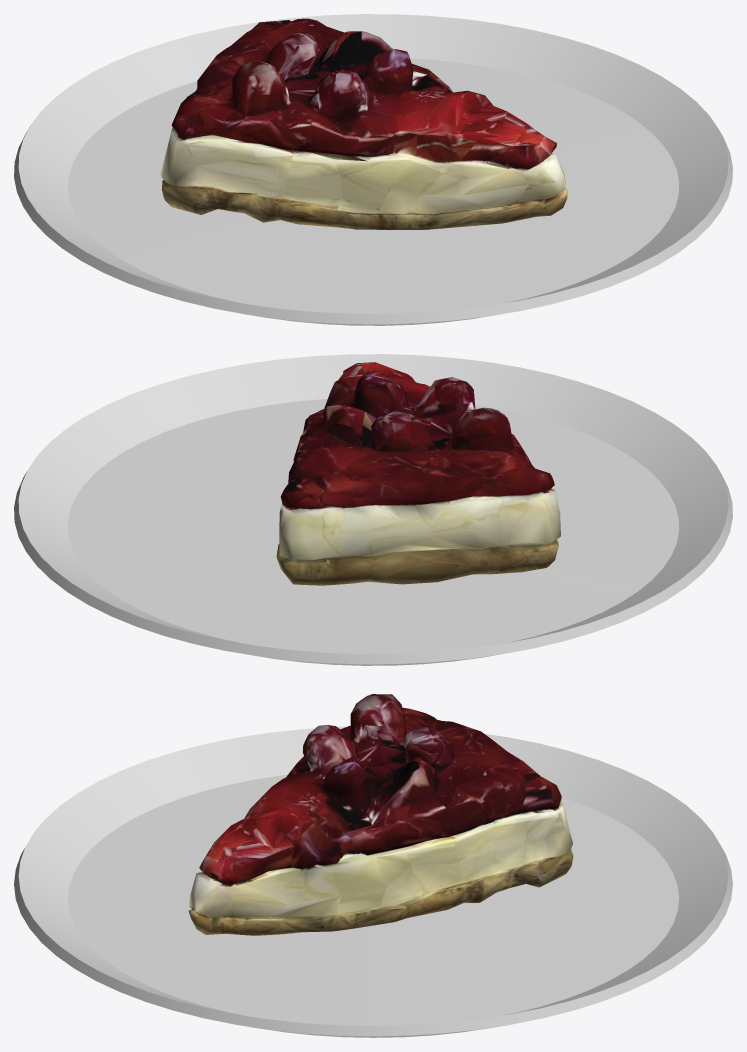
File: LetMeEatCake_04.glb
3 renders of one model, top to bottom at view 1: azimuth 30°, elevation 25°; view 2: azimuth 150°, elevation 25°; view 3: azimuth 270°, elevation 25°, orthographic.
Visible parts, largest first — view 1: Cube.003, Meshy_AI_Cherry_Cheesecake_Sli_0429064109_texture.001; view 2: Cube.003, Meshy_AI_Cherry_Cheesecake_Sli_0429064109_texture.001; view 3: Cube.003, Meshy_AI_Cherry_Cheesecake_Sli_0429064109_texture.001.
Part boxes in pixels (x1,y1,x2,y2): Cube.003: (14,14,732,325); Meshy_AI_Cherry_Cheesecake_Sli_0429064109_texture.001: (160,18,567,229); Cube.003: (14,354,732,665); Meshy_AI_Cherry_Cheesecake_Sli_0429064109_texture.001: (276,362,560,585); Cube.003: (14,726,732,1037); Meshy_AI_Cherry_Cheesecake_Sli_0429064109_texture.001: (188,694,573,935).
Size of the model in its own units: 0.28 by 0.0672 by 0.28.
2 materials, 1 textured.
